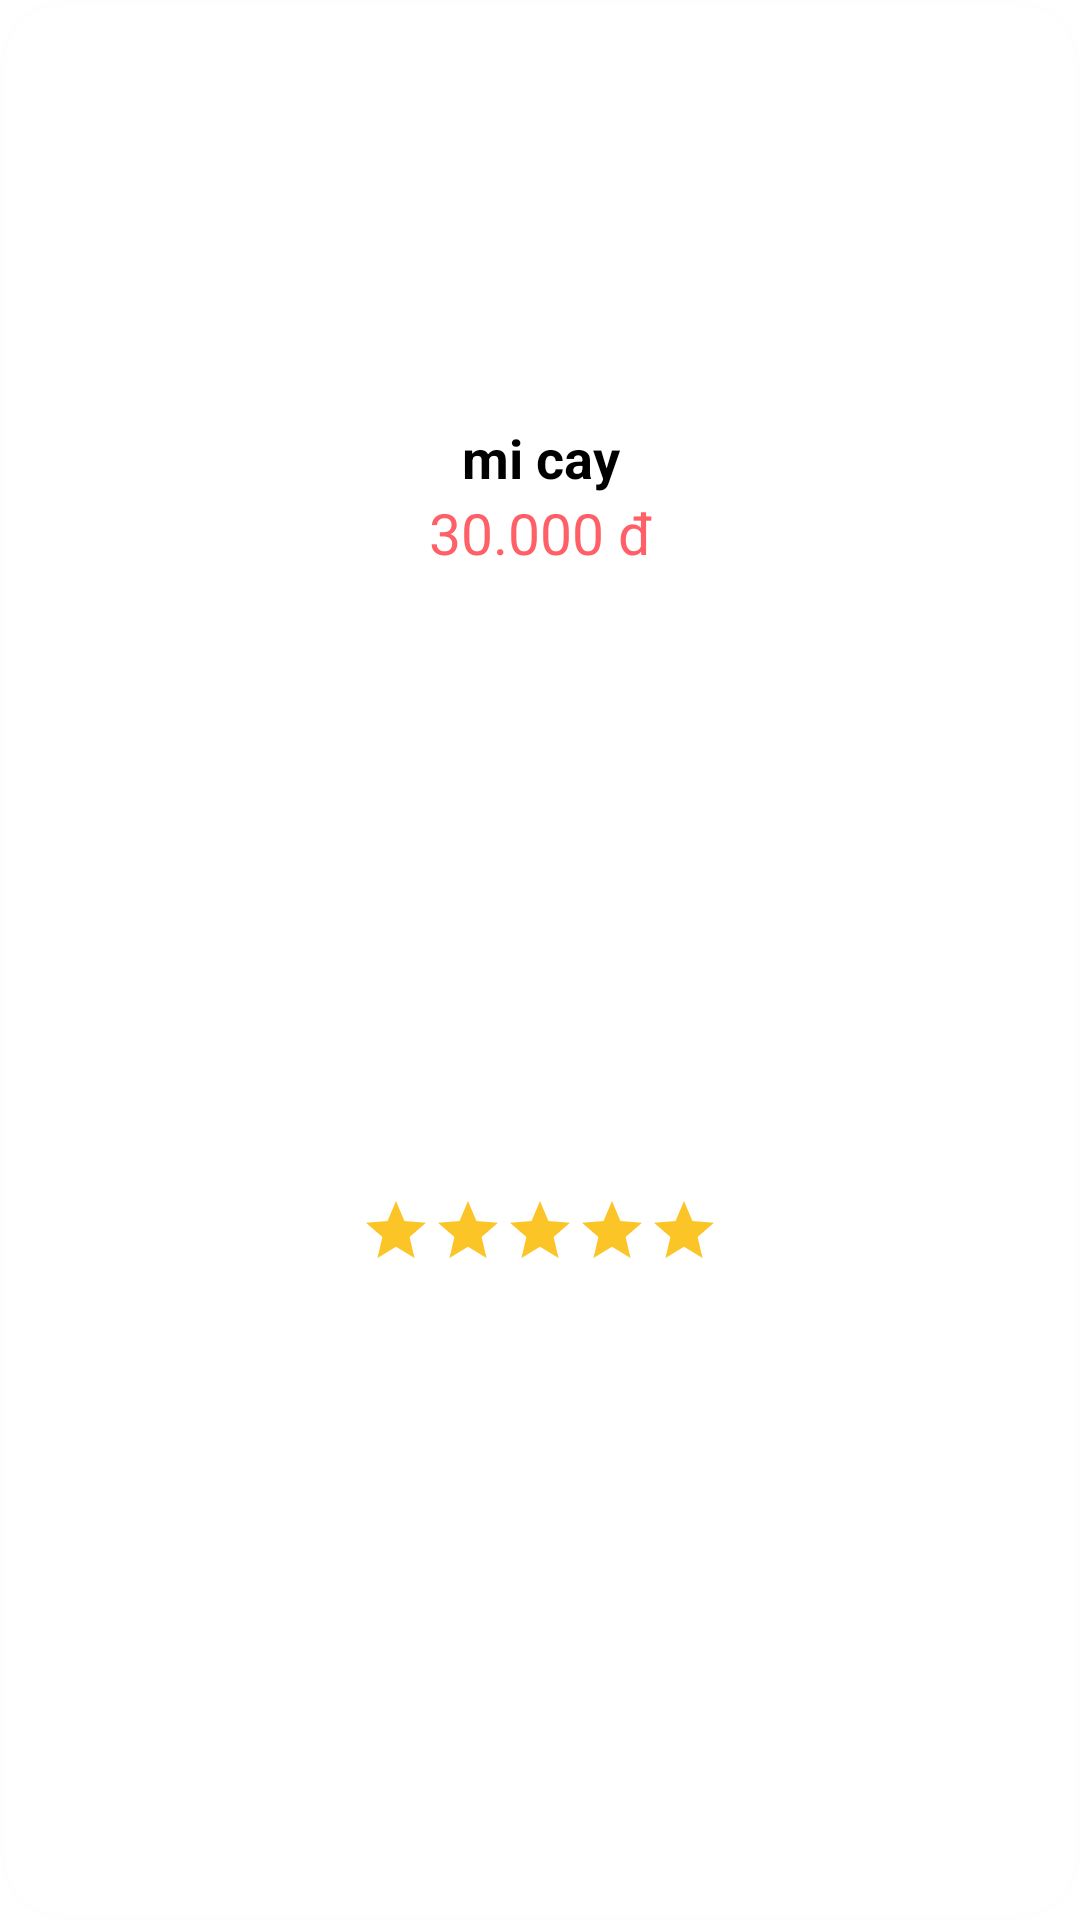

Locate icon controls on the screen. Image size 1080w x 1920h, boxes as [x1=x1, y1=y1, x2=x2, y2=y2].
star: [x1=366, y1=1201, x2=426, y2=1258], [x1=438, y1=1201, x2=498, y2=1258], [x1=510, y1=1201, x2=570, y2=1258], [x1=582, y1=1201, x2=642, y2=1258], [x1=654, y1=1201, x2=714, y2=1258]
